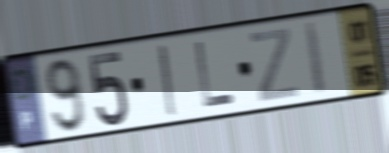5: (84, 47, 131, 128)
9: (43, 56, 87, 135)
I: (302, 18, 329, 98), (156, 42, 181, 120)
L: (192, 39, 238, 111)
Z: (247, 24, 301, 105)
